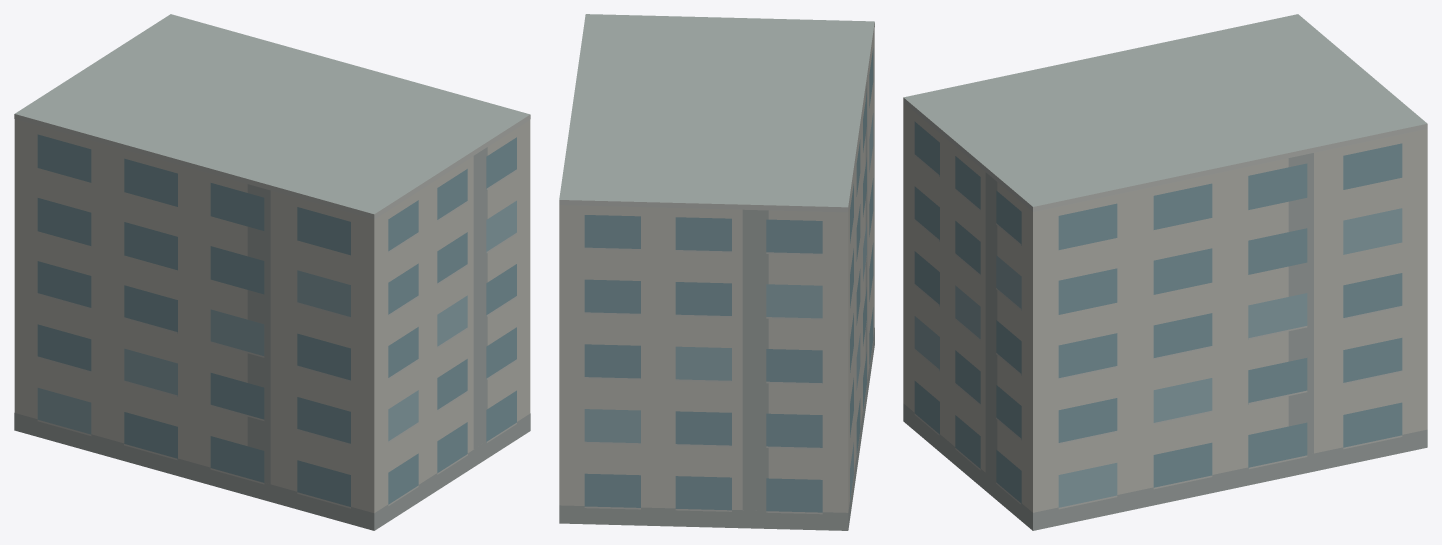
The model's file is residential-f295aa97-2ff6-4367-8237-c7a6352db5a1.glb.
3 views of the same model, side by side, from view 1: azimuth 30°, elevation 25°; view 2: azimuth 150°, elevation 25°; view 3: azimuth 270°, elevation 25° (orthographic). The views are drawn at different scales.
Parts seen in each view (by area): view 1: residential-f295aa97-2ff6-4367-8237-c7a6352db5a1.tmp; view 2: residential-f295aa97-2ff6-4367-8237-c7a6352db5a1.tmp; view 3: residential-f295aa97-2ff6-4367-8237-c7a6352db5a1.tmp.
Part boxes in pixels (x1=…): residential-f295aa97-2ff6-4367-8237-c7a6352db5a1.tmp: x1=14, y1=14, x2=530, y2=530; residential-f295aa97-2ff6-4367-8237-c7a6352db5a1.tmp: x1=559, y1=14, x2=874, y2=530; residential-f295aa97-2ff6-4367-8237-c7a6352db5a1.tmp: x1=903, y1=14, x2=1427, y2=530.
Size of the model in its own units: 19.49 by 15.25 by 22.37.
